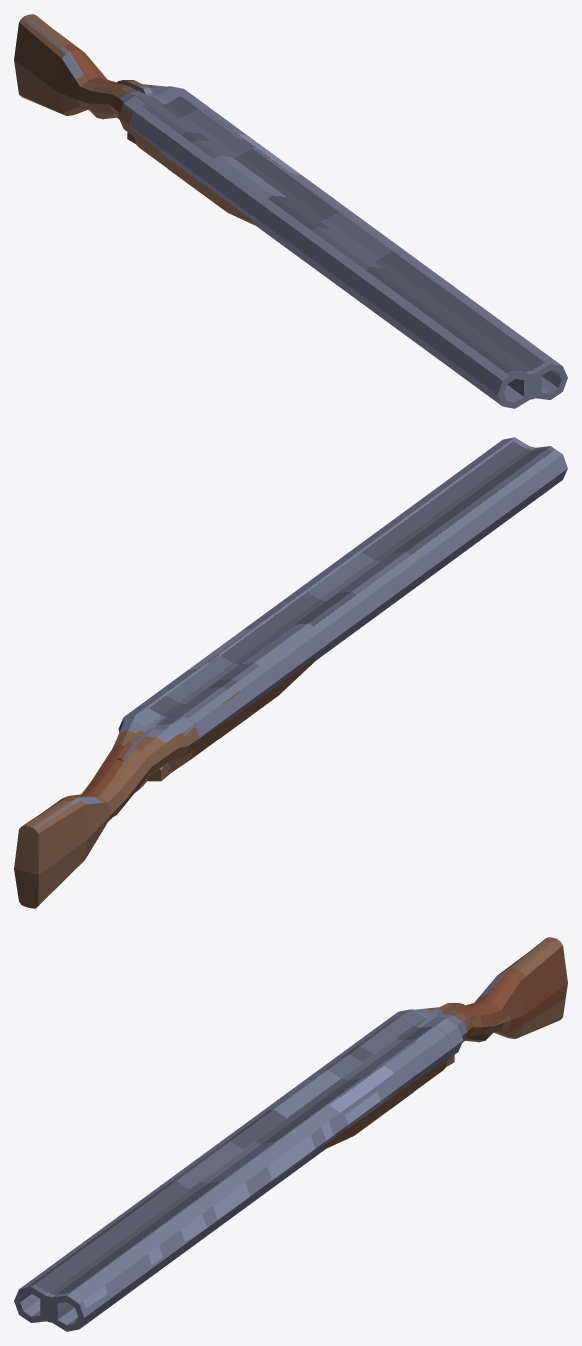
Rendered from shotgun.glb.
3 views of the same model, one above another, from view 1: azimuth 30°, elevation 25°; view 2: azimuth 150°, elevation 25°; view 3: azimuth 330°, elevation 25° (orthographic).
Parts seen in each view (by area): view 1: Super Shotgun; view 2: Super Shotgun; view 3: Super Shotgun.
Part boxes in pixels (bbox=[...]): Super Shotgun: bbox=[14, 14, 567, 408]; Super Shotgun: bbox=[14, 437, 567, 908]; Super Shotgun: bbox=[14, 937, 567, 1331].
Bounding box in the file's own units: 0.5138 × 0.6775 × 6.41.
Materials: 1 (1 with a texture image).
